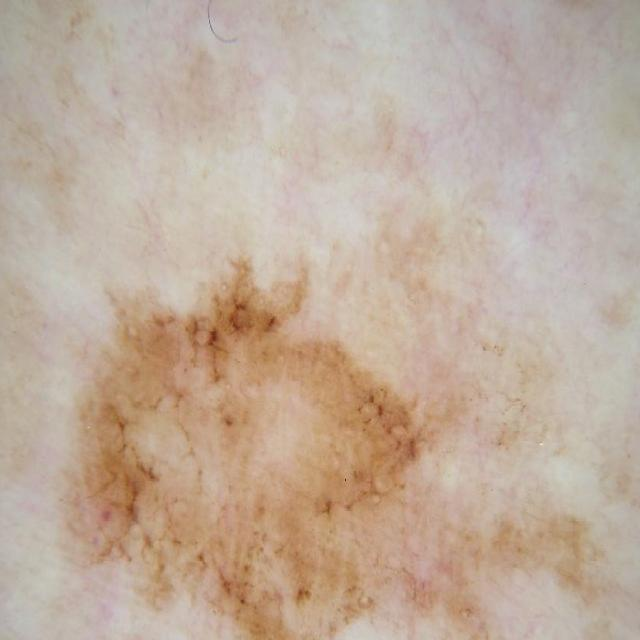Melanoma: (69, 230, 596, 640)
